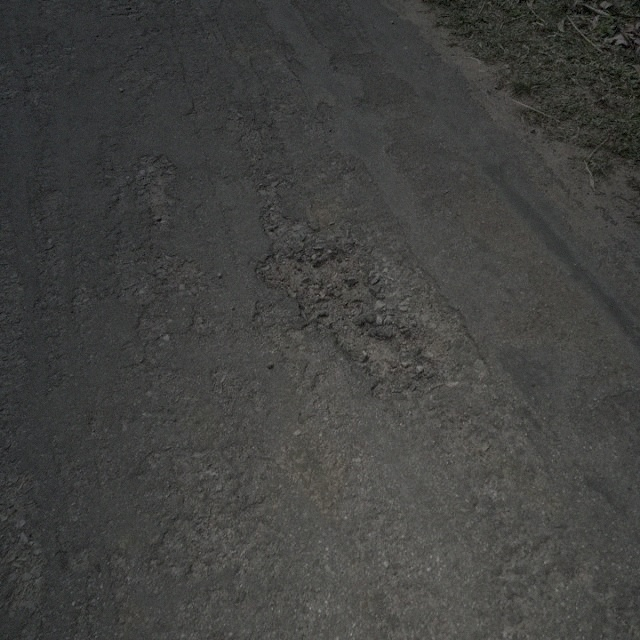pothole: (252, 241, 430, 393), (129, 151, 179, 222)
